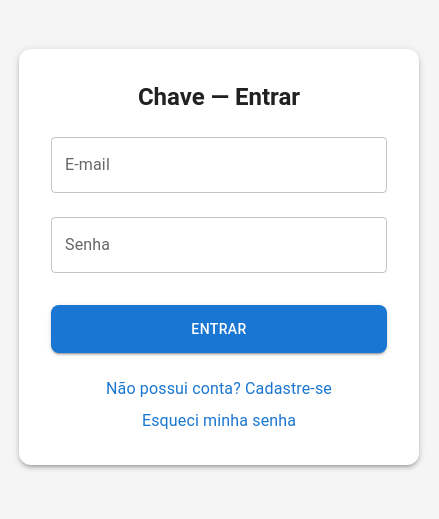
Test: LoginPage › exibe mensagem de erro em falha de login
Type "test@test.com" into the field labelled "E-mail" at (219, 165), box 51,137 -> 387,193
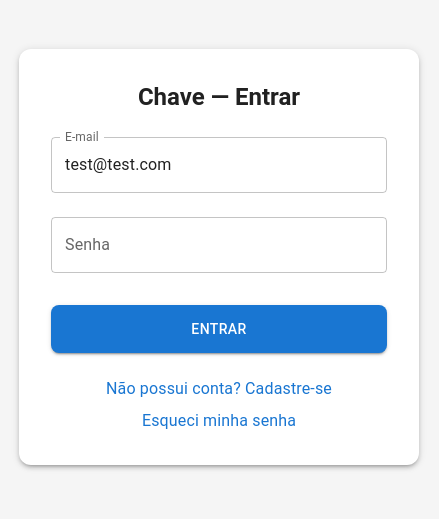
Type "senhaerrada" into the password field labelled "Senha" at (219, 245), box 51,217 -> 387,273
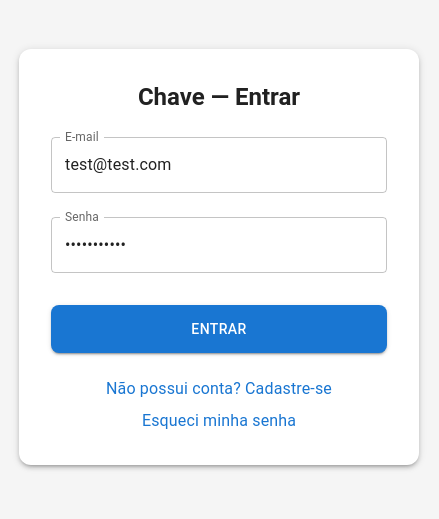
Click the button with test id "login-button" at (219, 329), box 51,305 -> 387,354
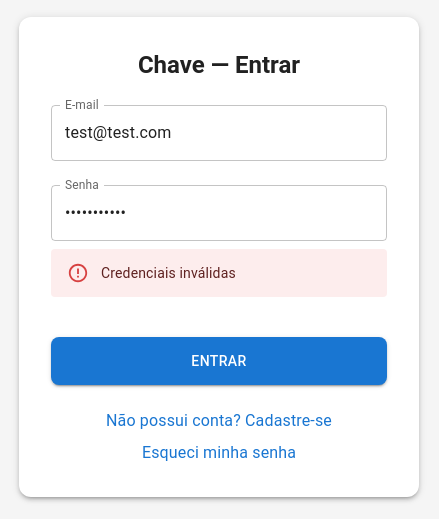
expect the text "Credenciais inválidas" is shown: met, box 101,265 -> 236,281
